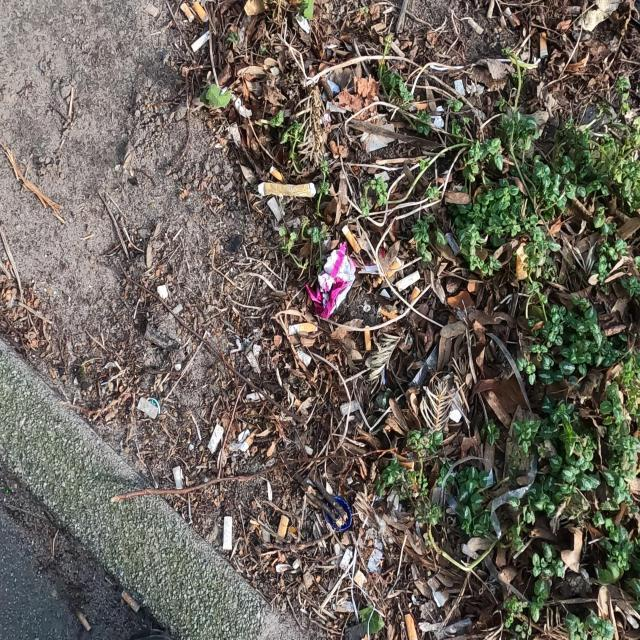Plastic: (304, 240, 358, 321)
